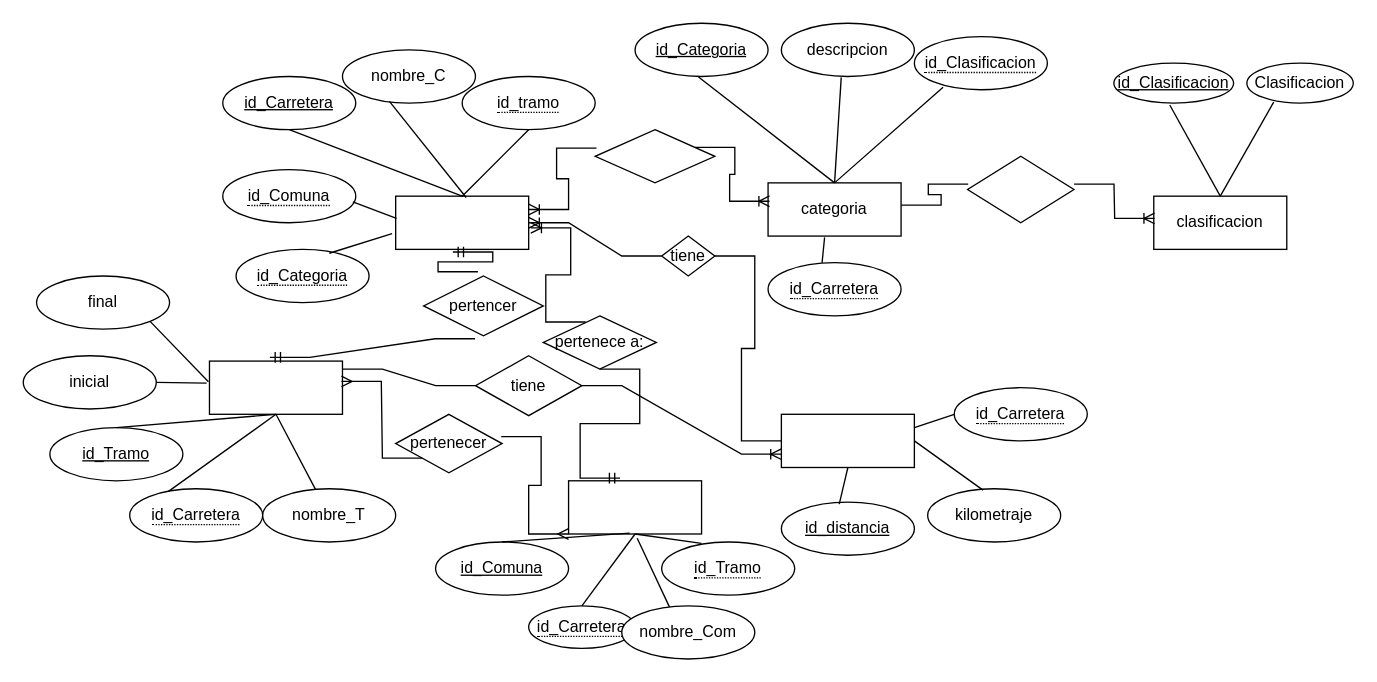
This 1377x682 diagram has some shape labels left out. Each missing label, with the centre of its shape:
carretara: the point at 461,222
comuna: the point at 634,506
distancia: the point at 847,440
dividir: the point at 654,155
se divide en:: the point at 1020,189
tramo: the point at 275,387
